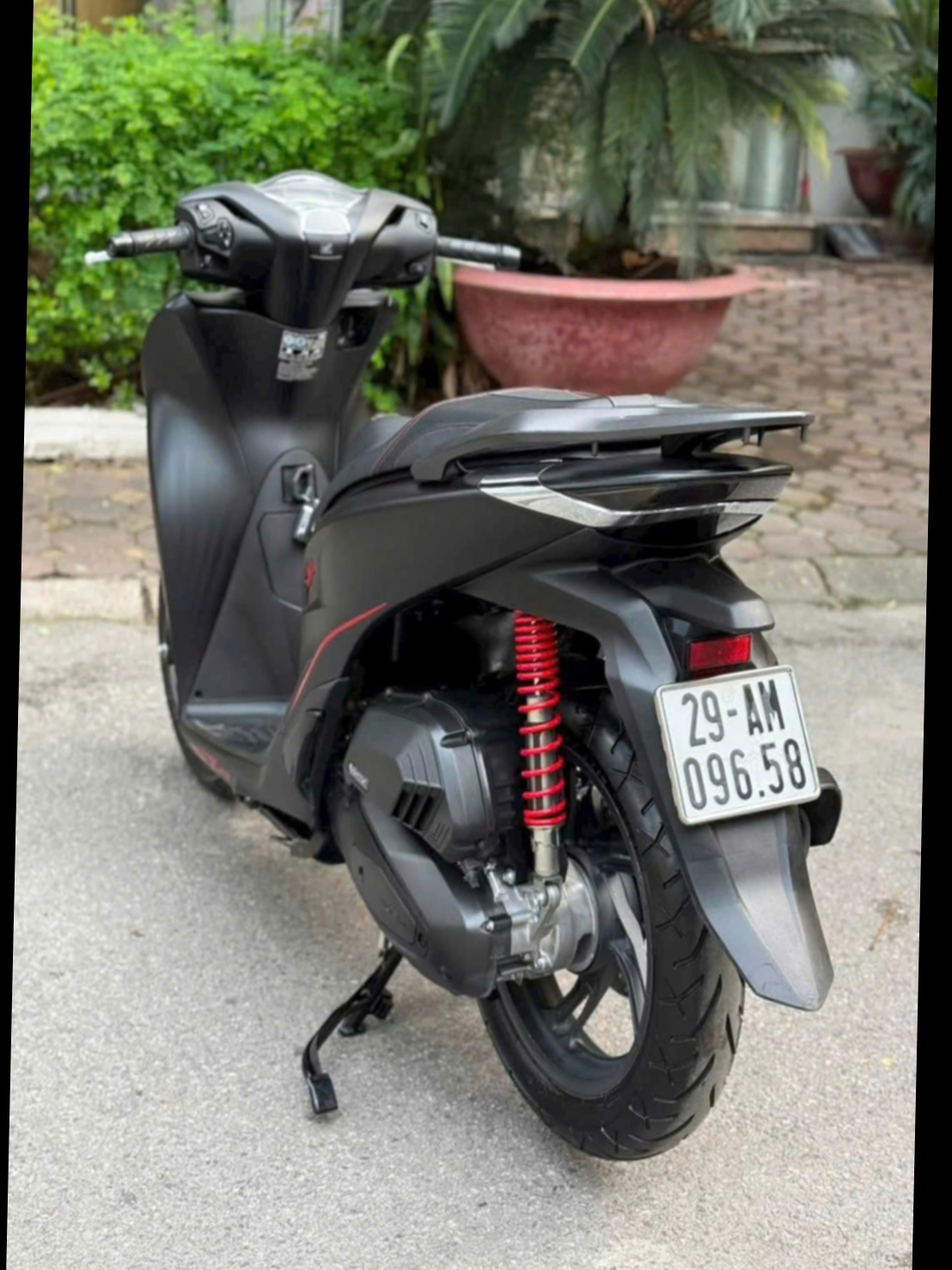Bien-so: (674, 622, 853, 788)
